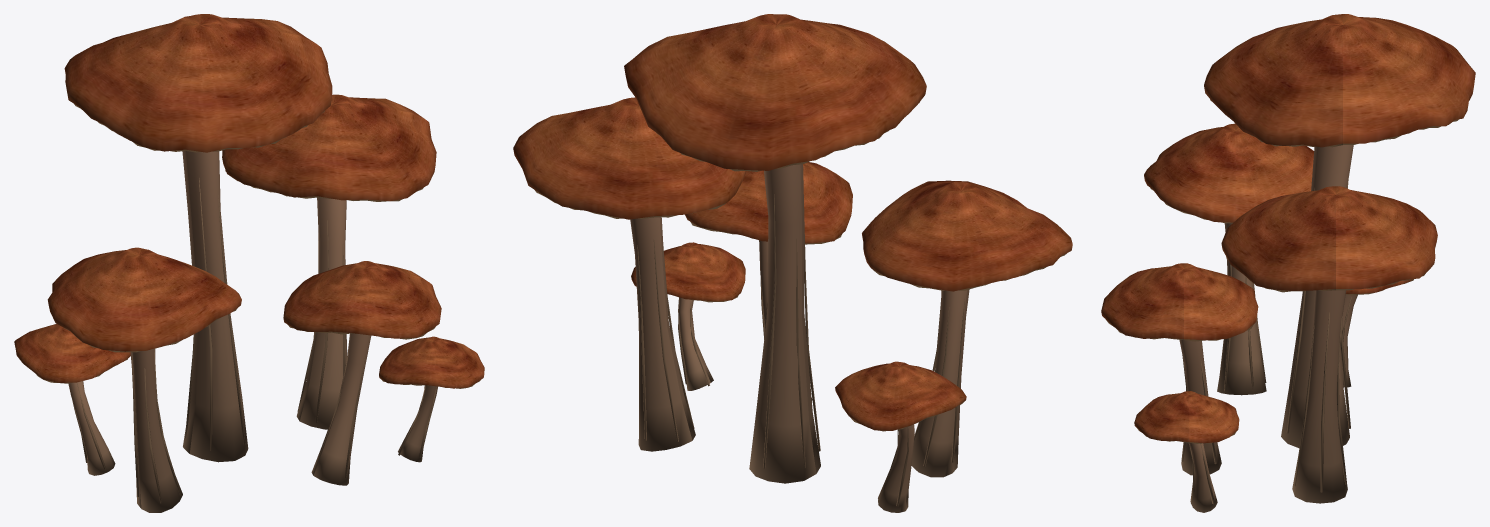
The model's file is mushroom.glb.
3 renders of one model, left to right at view 1: azimuth 30°, elevation 25°; view 2: azimuth 150°, elevation 25°; view 3: azimuth 270°, elevation 25°, orthographic. The views are drawn at different scales.
Parts seen in each view (by area): view 1: russet cuticle, fibrous stipe, dark lamellae; view 2: russet cuticle, fibrous stipe, dark lamellae; view 3: russet cuticle, fibrous stipe, dark lamellae.
Boxes of the visible parts, <box> form: russet cuticle: <box>14,14,484,388</box>; fibrous stipe: <box>68,151,437,512</box>; dark lamellae: <box>36,104,480,388</box>; russet cuticle: <box>513,14,1072,430</box>; fibrous stipe: <box>630,164,969,512</box>; dark lamellae: <box>534,102,1066,431</box>; russet cuticle: <box>1101,14,1475,443</box>; fibrous stipe: <box>1179,145,1357,512</box>; dark lamellae: <box>1105,99,1458,443</box>.
Size of the model in its own units: 1.94 by 1.85 by 1.5.
Materials: 3 (1 with a texture image).
